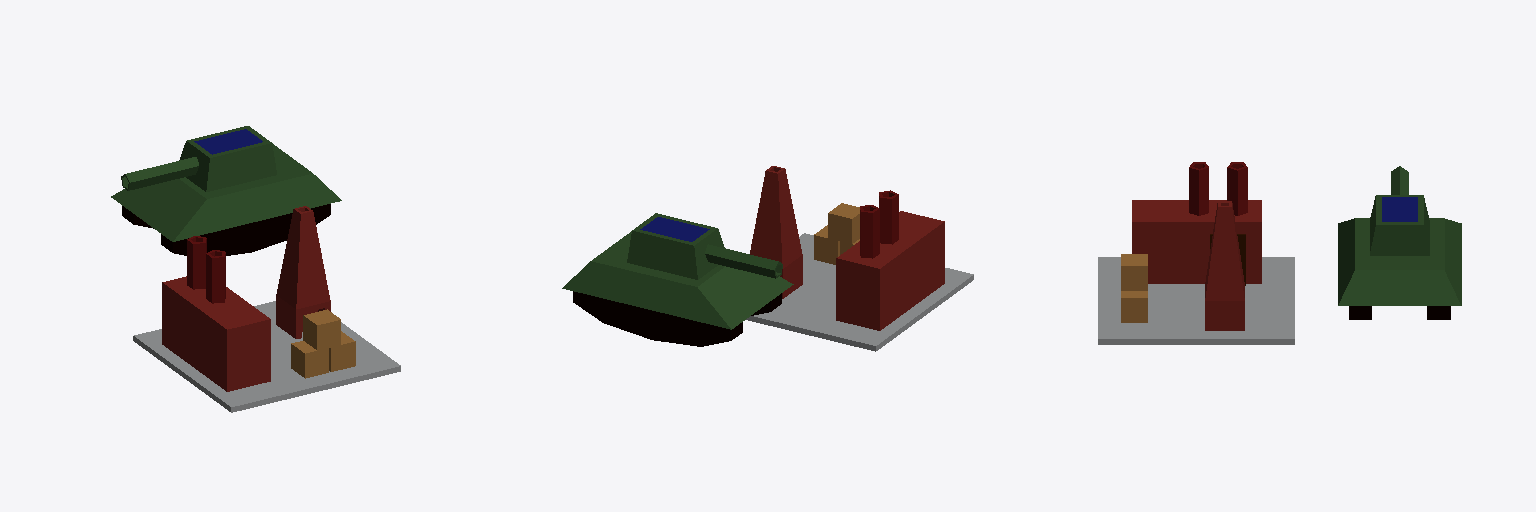
3 renders of one model, left to right at view 1: azimuth 30°, elevation 25°; view 2: azimuth 150°, elevation 25°; view 3: azimuth 270°, elevation 25°, orthographic.
Parts seen in each view (by area): view 1: Cube_6_Untitled.005, Body_Untitled.004; view 2: Cube_6_Untitled.005, Body_Untitled.004; view 3: Cube_6_Untitled.005, Body_Untitled.004.
Part boxes in pixels (left/top/right/bottom): Cube_6_Untitled.005: left=133, top=206, right=400, bottom=412; Body_Untitled.004: left=111, top=126, right=341, bottom=255; Cube_6_Untitled.005: left=746, top=166, right=973, bottom=351; Body_Untitled.004: left=562, top=213, right=793, bottom=346; Cube_6_Untitled.005: left=1098, top=162, right=1294, bottom=344; Body_Untitled.004: left=1338, top=166, right=1461, bottom=319.
Bounding box in the file's own units: 2.72 × 1.4 × 3.7.